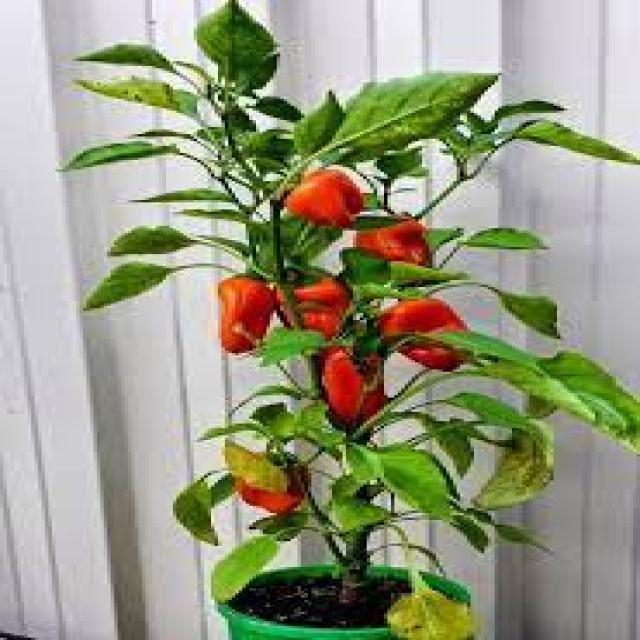plant: (74, 8, 631, 634)
